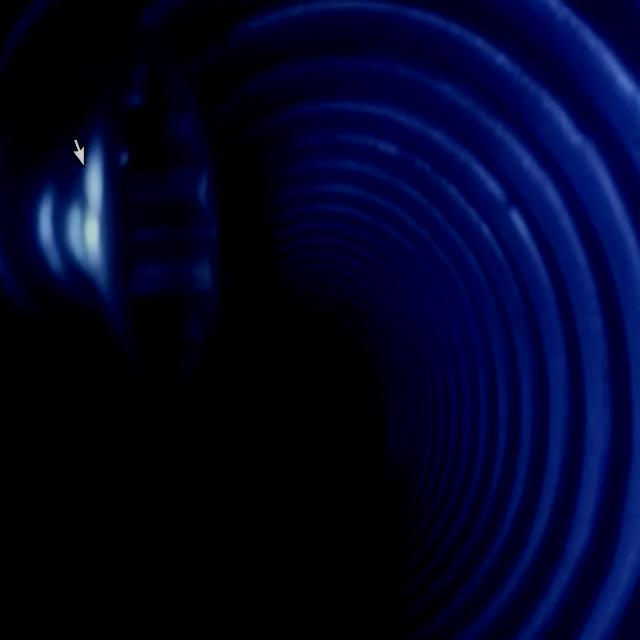metal piece: (0, 37, 221, 396)
